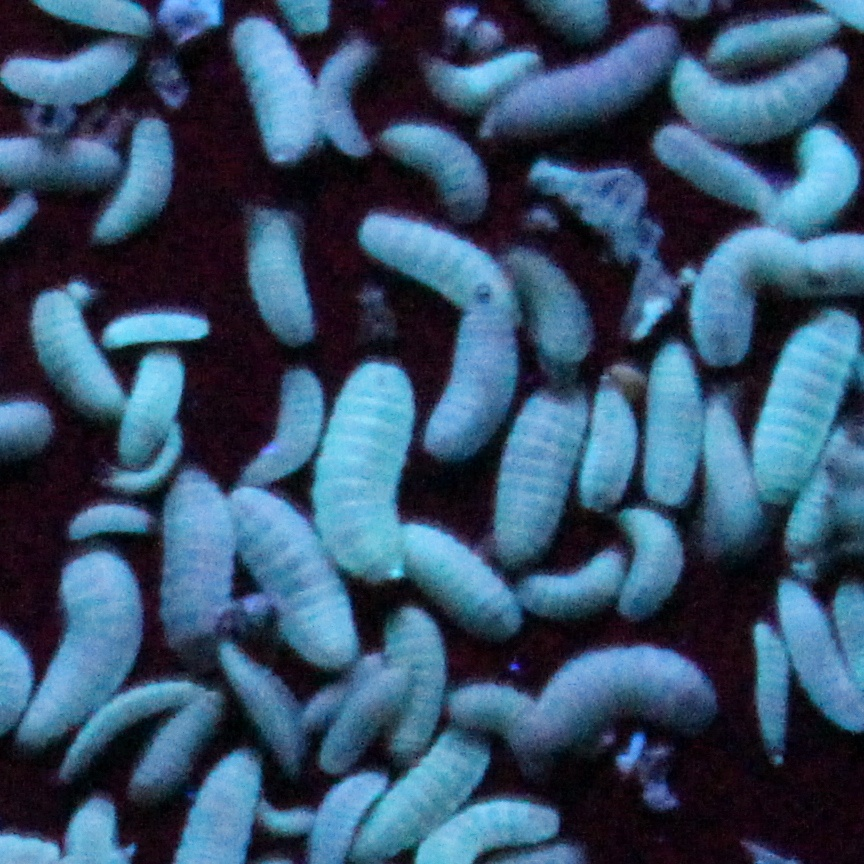larve: (219, 482, 361, 670), (302, 375, 434, 572), (27, 546, 139, 736), (490, 30, 680, 130), (522, 638, 705, 726), (353, 222, 523, 315), (669, 51, 841, 141), (421, 282, 512, 449), (689, 228, 794, 368), (400, 514, 515, 638), (228, 17, 320, 158), (505, 377, 573, 555), (158, 477, 227, 643), (380, 597, 456, 746), (28, 290, 115, 420), (73, 675, 178, 772), (92, 113, 172, 240), (648, 140, 784, 213), (384, 125, 490, 218), (638, 340, 698, 500), (322, 643, 405, 758), (134, 692, 224, 794), (224, 641, 300, 760), (774, 125, 861, 223), (575, 385, 641, 511), (243, 223, 312, 343), (612, 497, 680, 616), (256, 366, 320, 487), (517, 543, 615, 619), (741, 616, 795, 753), (123, 354, 192, 461), (449, 667, 539, 743), (426, 54, 567, 102), (318, 35, 374, 153), (716, 15, 836, 68), (108, 304, 207, 351), (246, 792, 330, 833)
